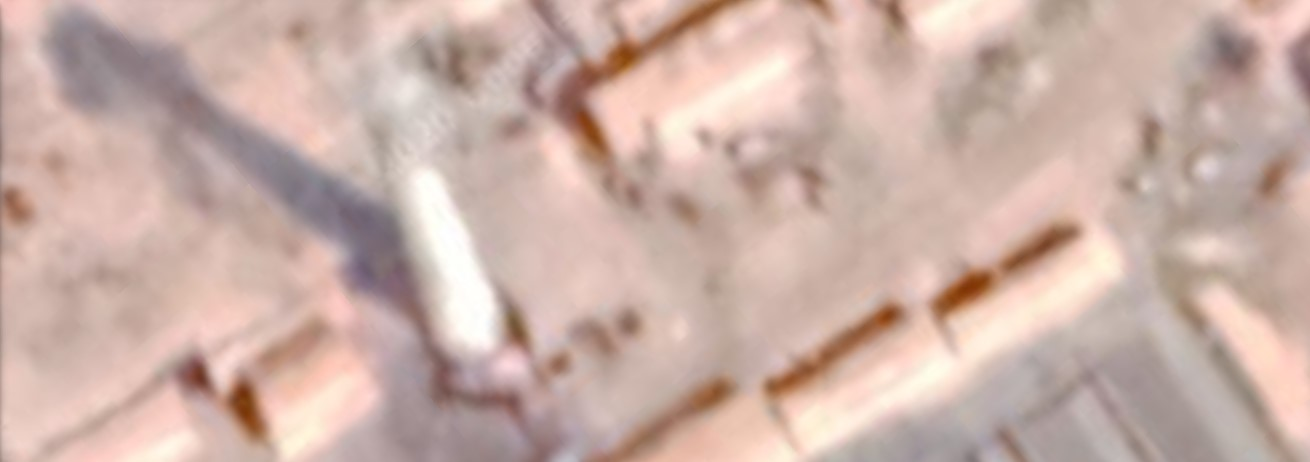kiln: (249, 6, 1038, 462)
